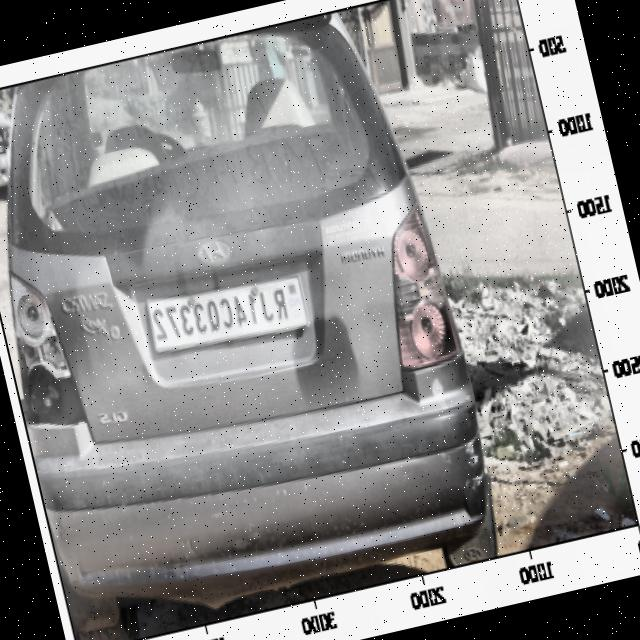license_plate: (143, 272, 298, 360)
